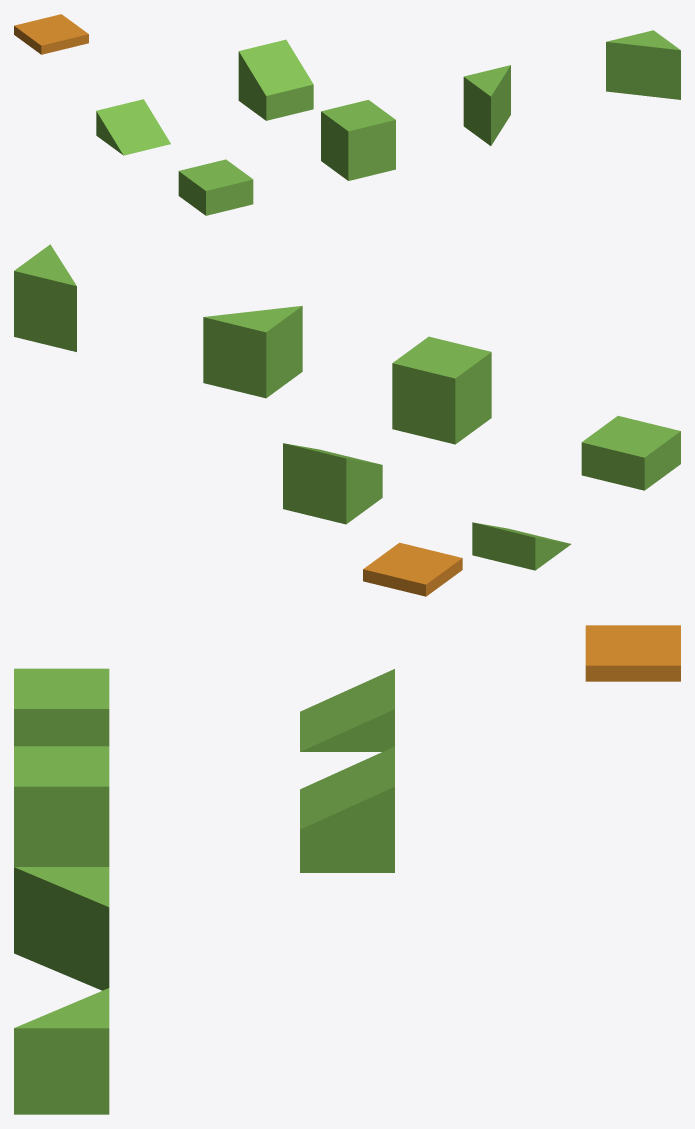
The model's file is lvl_tiles.glb.
3 renders of one model, top to bottom at view 1: azimuth 30°, elevation 25°; view 2: azimuth 150°, elevation 25°; view 3: azimuth 270°, elevation 25°, orthographic. The views are drawn at different scales.
Visible parts, largest first — view 1: Cube_1x1x1-col, Ramp_1x1x1.5-col, Corner_1x1x1_R-col, Cube_1x1x0.5-col, Corner_1x1x1_L-col, Ramp_1x1x0.5-col, Bridge-col; view 2: Cube_1x1x1-col, Corner_1x1x1_L-col, Ramp_1x1x1.5-col, Cube_1x1x0.5-col, Corner_1x1x1_R-col, Bridge-col, Ramp_1x1x0.5-col; view 3: Cube_1x1x1-col, Corner_1x1x1_R-col, Corner_1x1x1_L-col, Ramp_1x1x1.5-col, Cube_1x1x0.5-col, Ramp_1x1x0.5-col, Bridge-col.
Part boxes in pixels (box(x1,y1,x2,y2)): Cube_1x1x1-col: box(321, 100, 395, 180); Ramp_1x1x1.5-col: box(238, 39, 313, 120); Corner_1x1x1_R-col: box(606, 30, 680, 99); Cube_1x1x0.5-col: box(178, 159, 253, 215); Corner_1x1x1_L-col: box(463, 65, 510, 145); Ramp_1x1x0.5-col: box(96, 99, 170, 155); Bridge-col: box(14, 14, 88, 54); Cube_1x1x1-col: box(392, 336, 491, 444); Corner_1x1x1_L-col: box(203, 306, 302, 398); Ramp_1x1x1.5-col: box(283, 443, 382, 524); Cube_1x1x0.5-col: box(581, 416, 680, 490); Corner_1x1x1_R-col: box(14, 244, 76, 351); Bridge-col: box(363, 542, 462, 596); Ramp_1x1x0.5-col: box(472, 522, 571, 570); Cube_1x1x1-col: box(14, 746, 109, 866); Corner_1x1x1_R-col: box(14, 988, 109, 1114); Corner_1x1x1_L-col: box(14, 867, 109, 990); Ramp_1x1x1.5-col: box(300, 746, 394, 872); Cube_1x1x0.5-col: box(14, 668, 109, 746); Ramp_1x1x0.5-col: box(300, 669, 394, 751); Bridge-col: box(585, 625, 680, 681).
Bounding box in the file's own units: 10 × 1 × 7.
